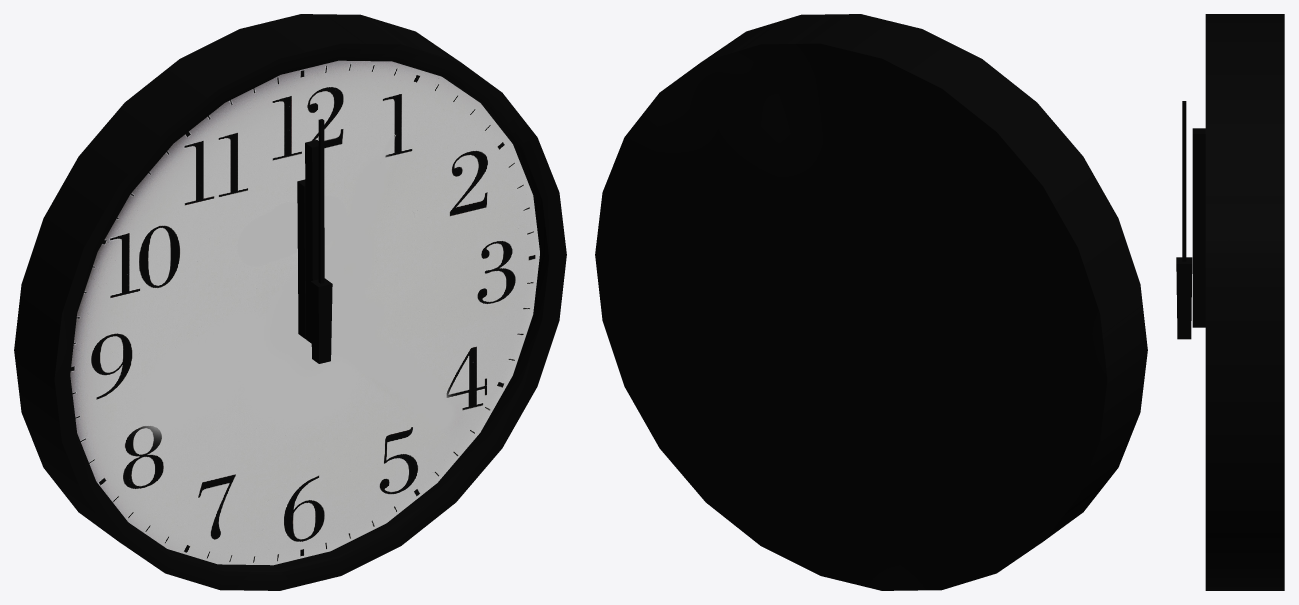
Rendered from Clock.FBX.
3 renders of one model, left to right at view 1: azimuth 30°, elevation 25°; view 2: azimuth 150°, elevation 25°; view 3: azimuth 270°, elevation 25°, orthographic. The views are drawn at different scales.
Visible parts, largest first — view 1: Clock, sec, min, hour; view 2: Clock; view 3: Clock, min, sec.
Part boxes in pixels (x1,y1,x2,y2): Clock: [14, 14, 566, 590]; sec: [310, 119, 332, 363]; min: [305, 140, 324, 343]; hour: [297, 179, 305, 338]; Clock: [595, 14, 1147, 590]; Clock: [1205, 14, 1284, 590]; min: [1192, 128, 1205, 327]; sec: [1176, 101, 1192, 339].
Bounding box in the file's own units: 11.31 × 2.11 × 11.22.
